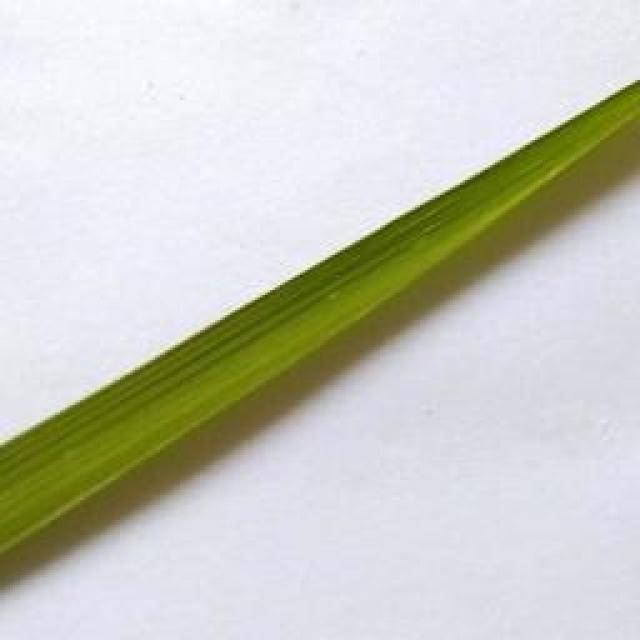Healthy-Plant: (0, 76, 640, 554)
